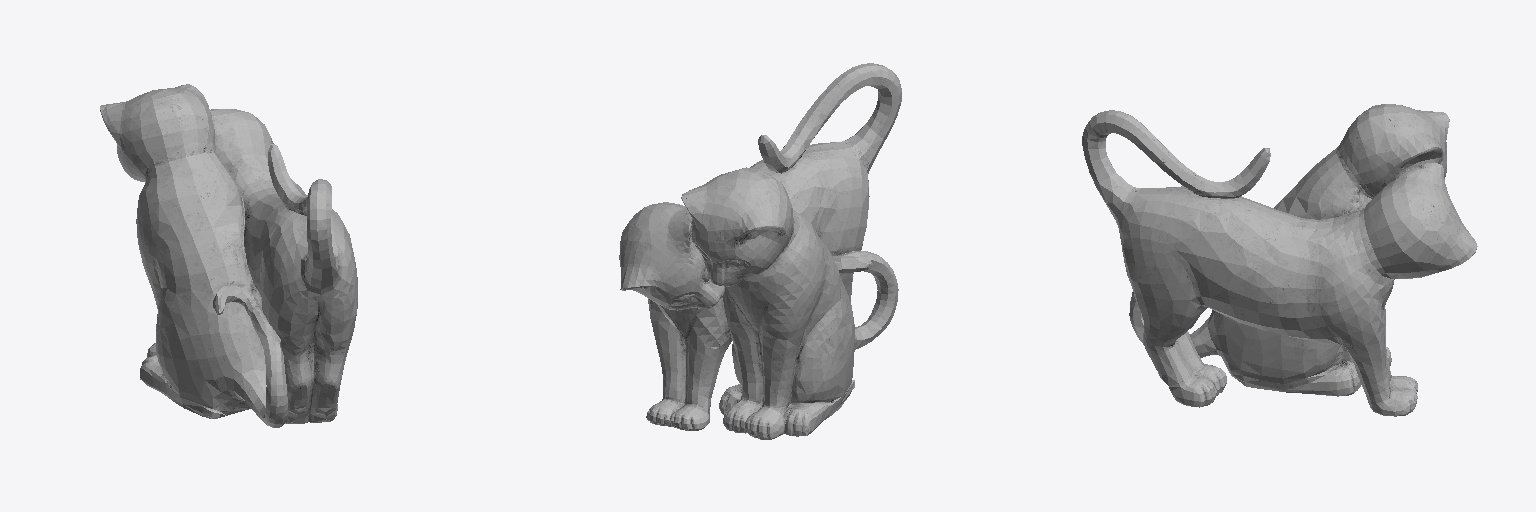
3 renders of one model, left to right at view 1: azimuth 30°, elevation 25°; view 2: azimuth 150°, elevation 25°; view 3: azimuth 270°, elevation 25°, orthographic.
Visible parts, largest first — view 1: Cats; view 2: Cats; view 3: Cats.
Part boxes in pixels (x1,y1,x2,y2): Cats: (100, 84, 357, 427); Cats: (619, 63, 901, 439); Cats: (1082, 104, 1477, 416).
Size of the model in its own units: 139 by 218 by 288.
Materials: 1 (1 with a texture image).